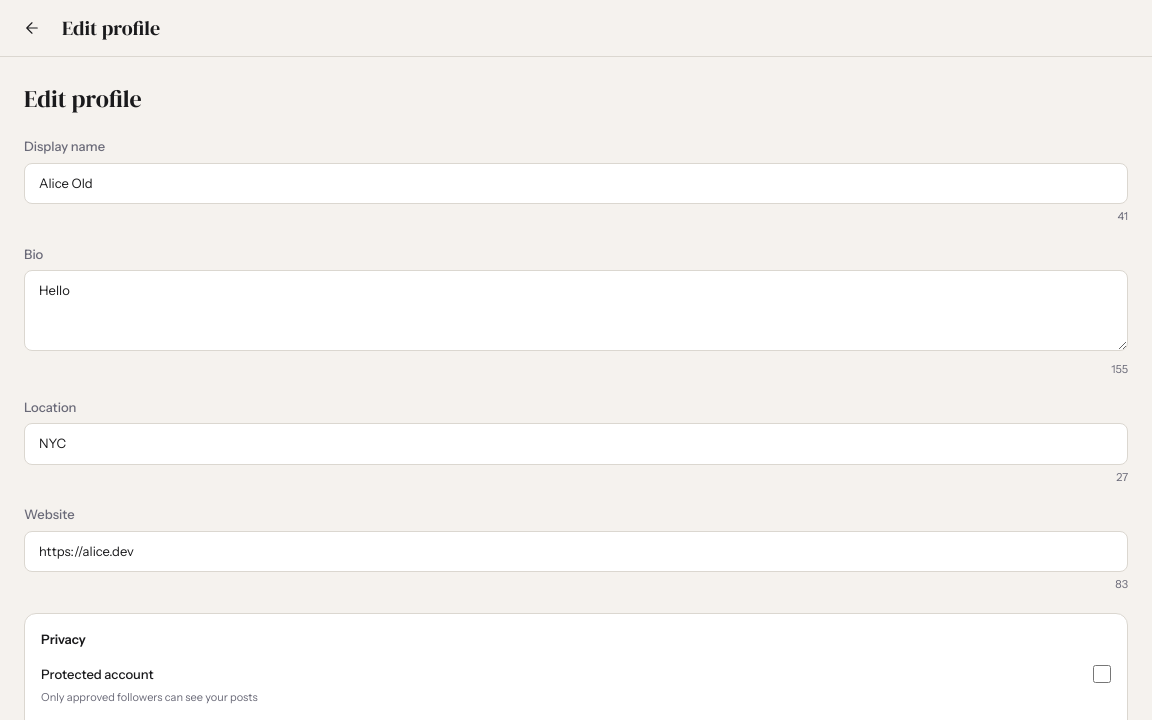
Test: SettingsPage › shows success message after save
Replace the text in the field with test id "settings-display-name" with "Alice Updated": (576, 183) x1=24 y1=162 x2=1128 y2=204
(page scrolled)
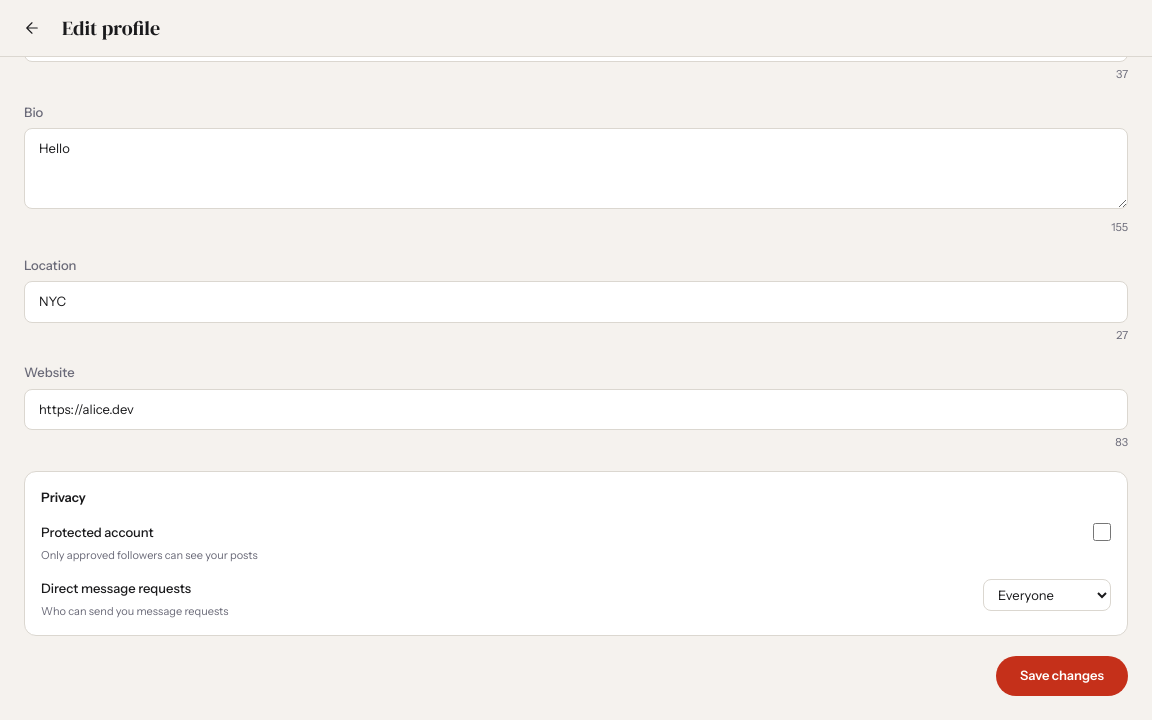
Expected: the button with test id "settings-save-button" is enabled
Click the button with test id "settings-save-button": (1062, 676) x1=996 y1=656 x2=1128 y2=696
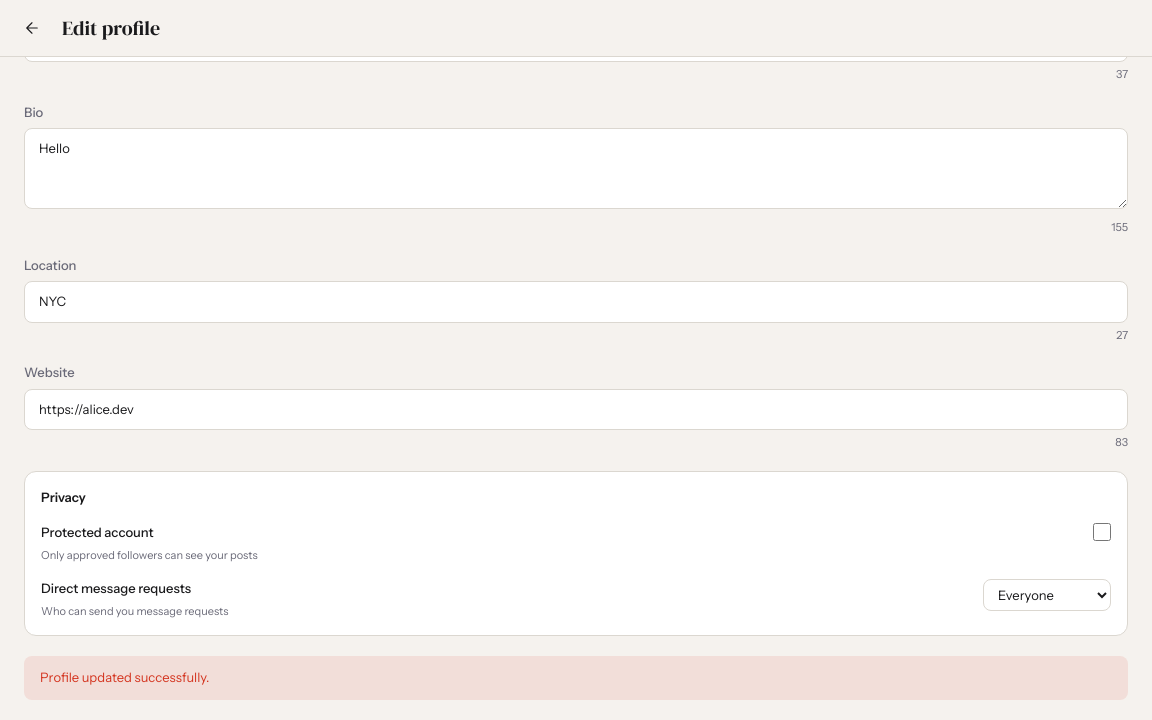
Expected: the message "Profile updated successfully." is shown, x1=24 y1=656 x2=1128 y2=700
